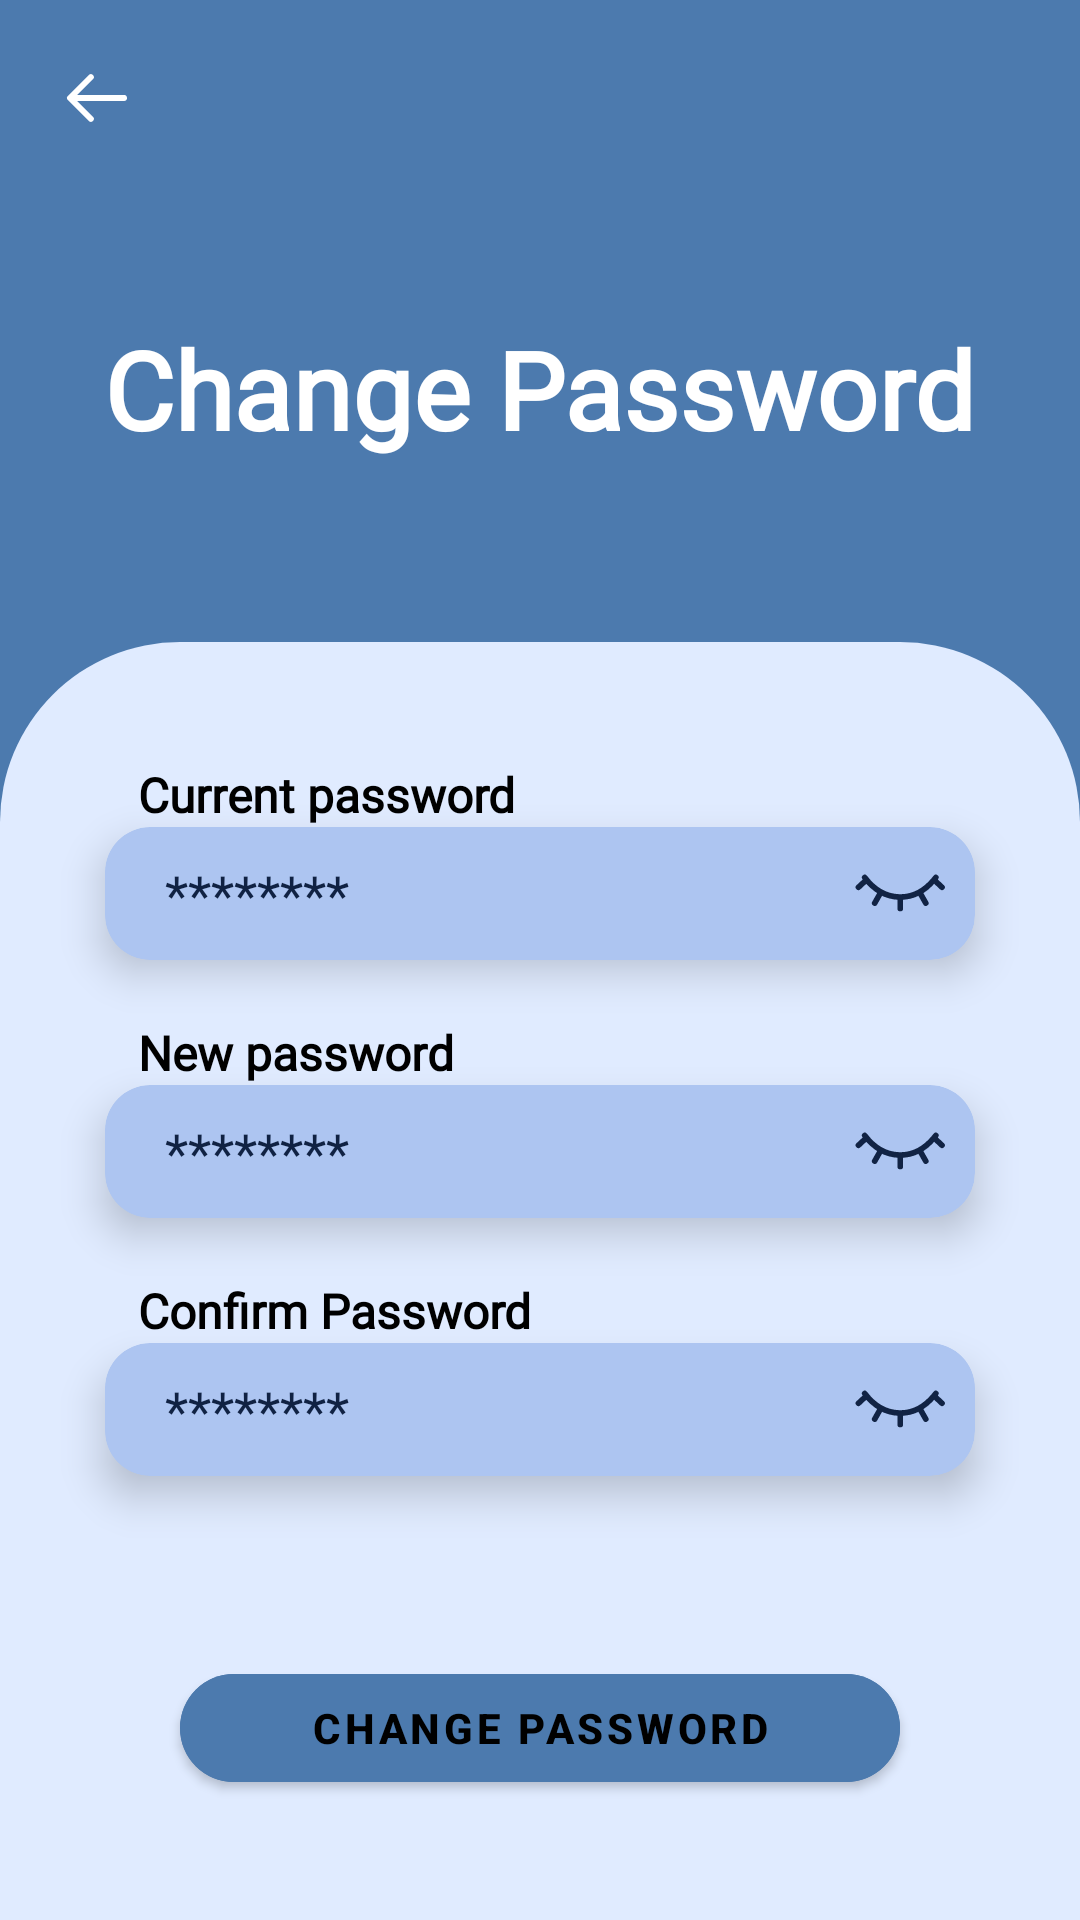

Where icons sit on this 1080x1920 app screen, as (x1, y1, x2, y2):
eye close: (855, 874, 945, 912), (855, 1132, 945, 1170), (855, 1390, 945, 1428)
